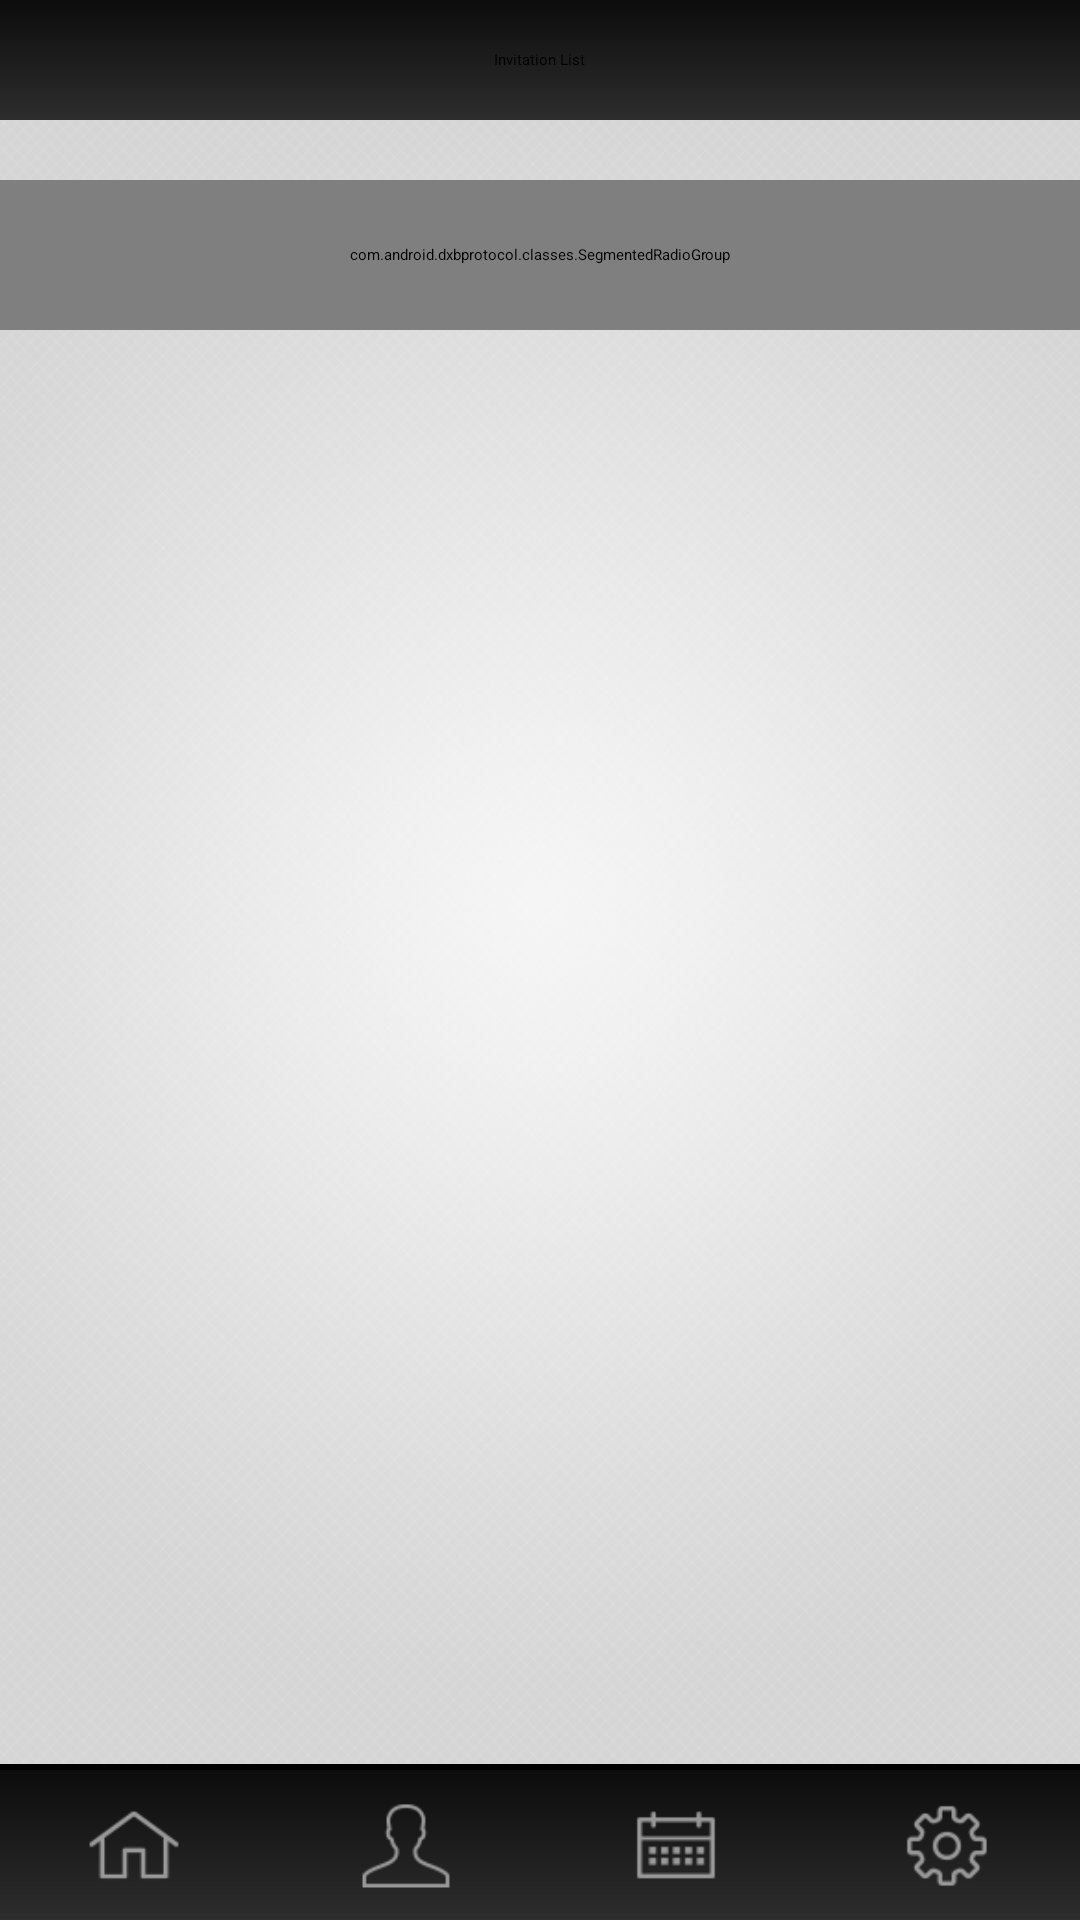

Screen size 1080px x 1920px. Icon name, then its box in pixels as (x1, y1, x2, y2):
event: (628, 1797, 724, 1879)
home: (86, 1797, 182, 1879)
settings: (898, 1797, 994, 1886)
user: (362, 1804, 450, 1888)
